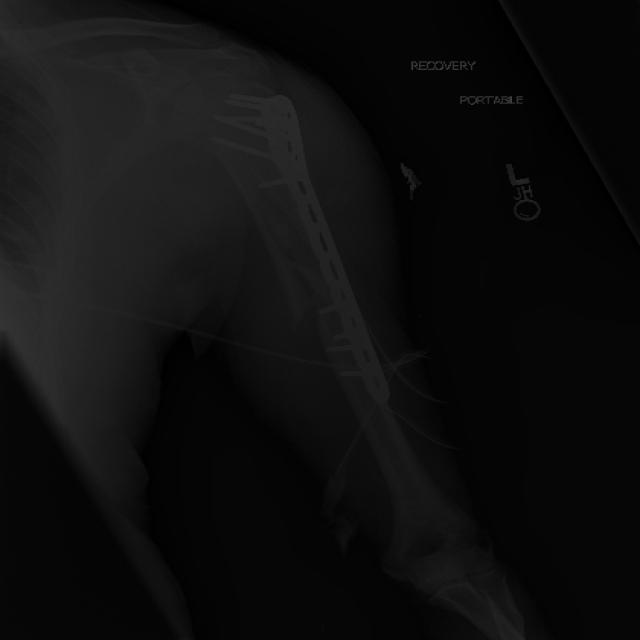shoulder fracture: (241, 189, 347, 341)
